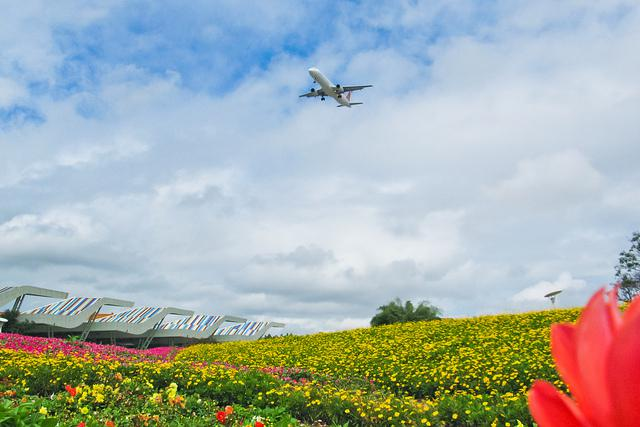Airplane: (299, 68, 375, 109)
